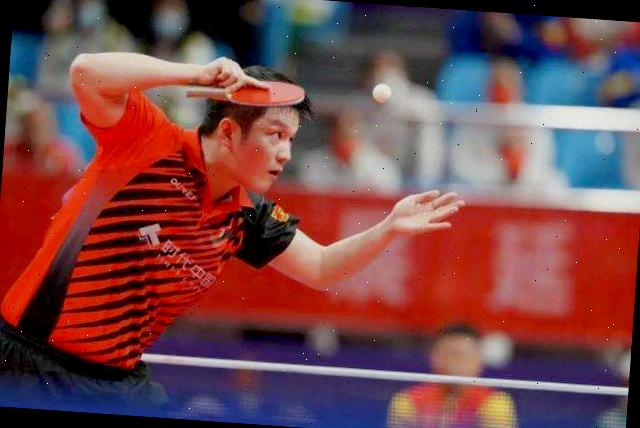ball: (368, 79, 394, 105)
